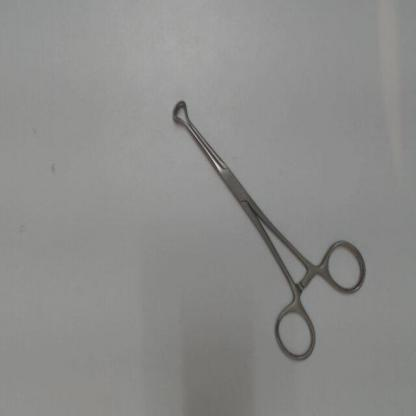Babcock Tissue Forceps: (171, 94, 371, 364)
